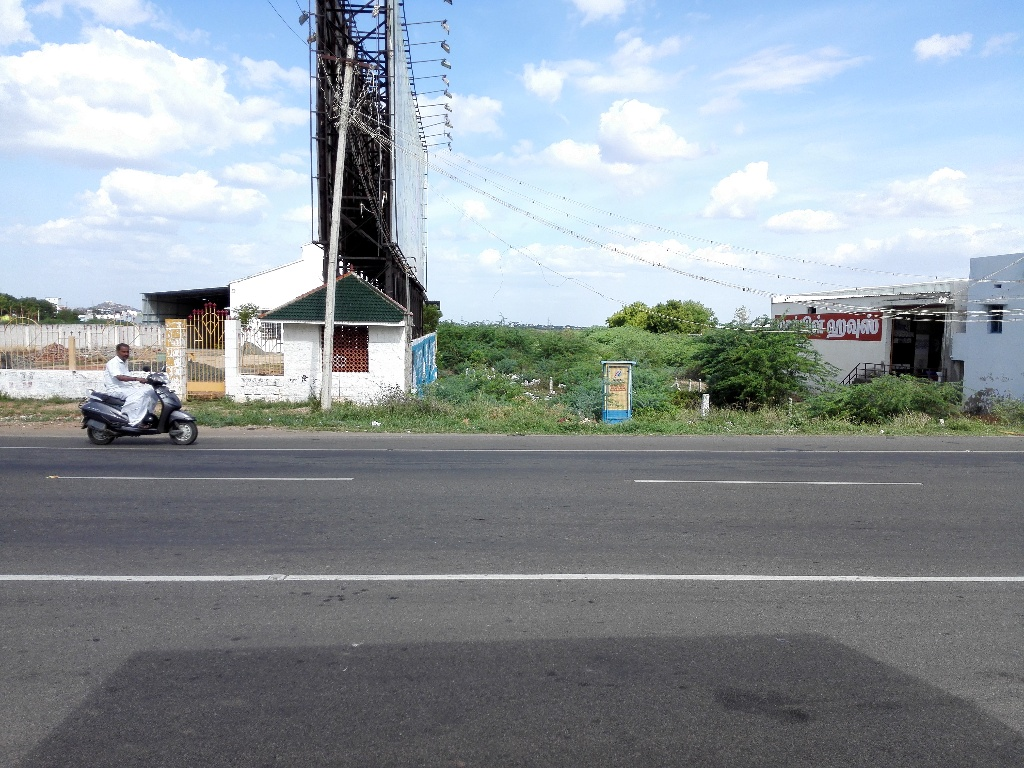biker: (66, 311, 210, 461)
nohelmet: (107, 330, 141, 372)
